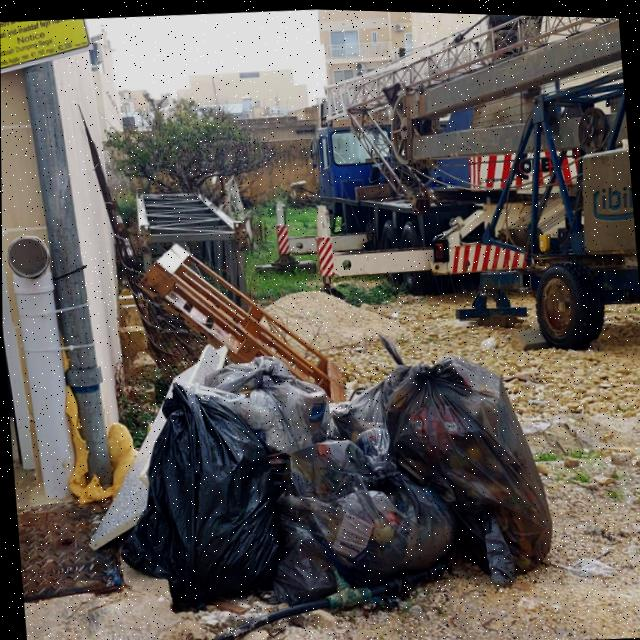Mixed Waste -Black Bag-: (370, 344, 557, 595), (105, 373, 279, 622), (269, 431, 460, 599), (324, 343, 413, 439)
Other: (131, 233, 346, 415), (73, 340, 245, 556), (81, 106, 211, 384), (204, 346, 330, 461)
